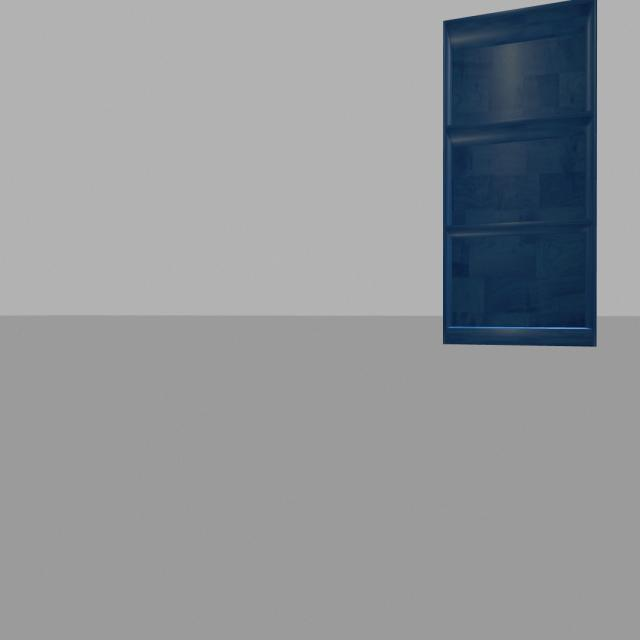shelf: (431, 0, 611, 365)
